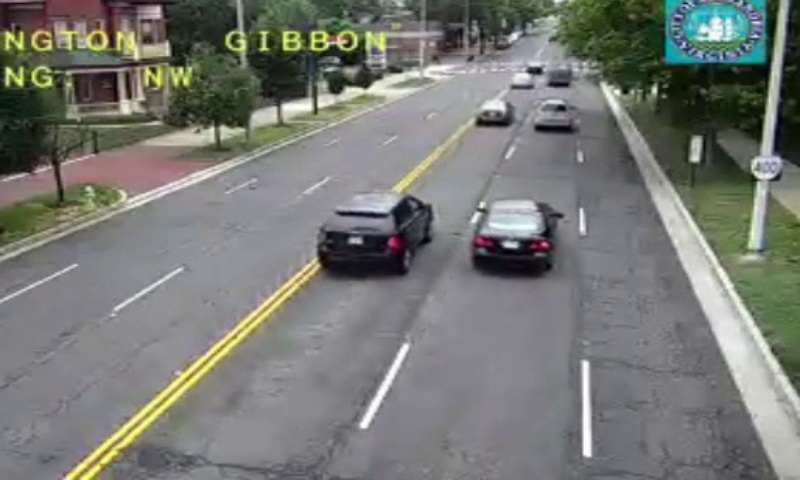car: (317, 190, 434, 267), (473, 198, 557, 268), (535, 98, 571, 127), (474, 100, 513, 126)
